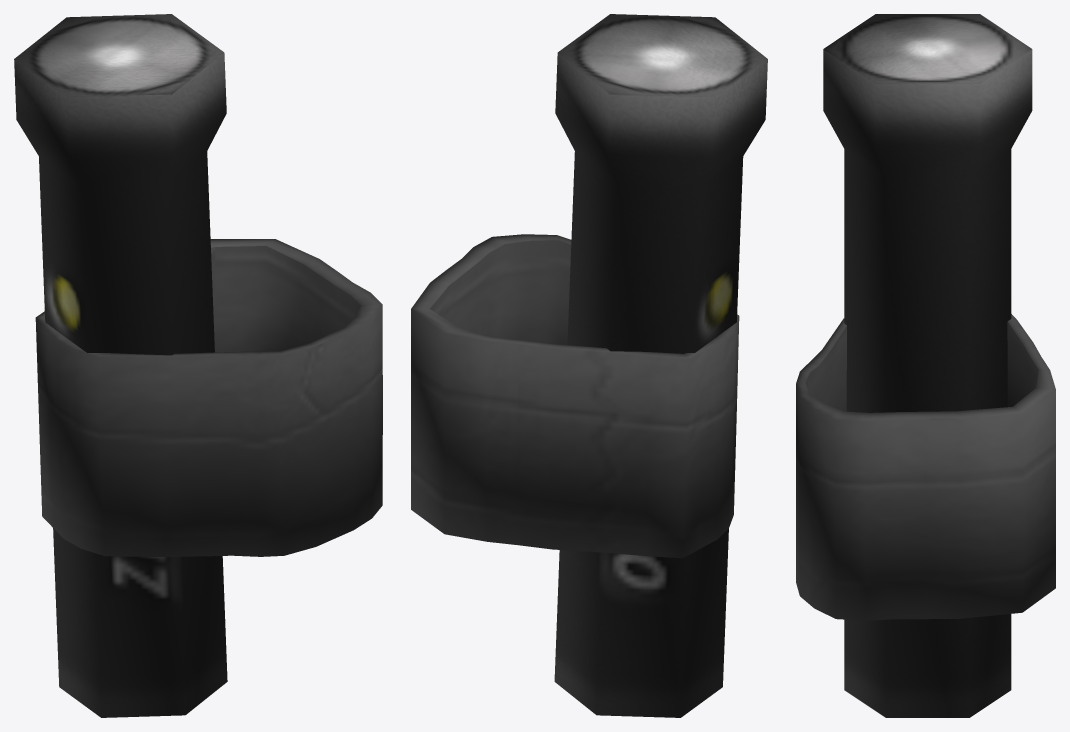
Rendered from TLOG_WeaponFlashlightSpecter.fbx.
3 views of the same model, side by side, from view 1: azimuth 30°, elevation 25°; view 2: azimuth 150°, elevation 25°; view 3: azimuth 270°, elevation 25° (orthographic).
Parts seen in each view (by area): view 1: FlashlightFullAutoRifle.002; view 2: FlashlightFullAutoRifle.002; view 3: FlashlightFullAutoRifle.002.
Boxes of the visible parts, x1,y1,x2,y2 form: FlashlightFullAutoRifle.002: (14, 14, 382, 717); FlashlightFullAutoRifle.002: (411, 14, 767, 717); FlashlightFullAutoRifle.002: (796, 14, 1055, 717).
Bounding box in the file's own units: 0.0664 × 0.1389 × 0.0503.
